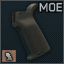AR-15 Magpul MOE pistol grip Black: (0, 0, 64, 64)
